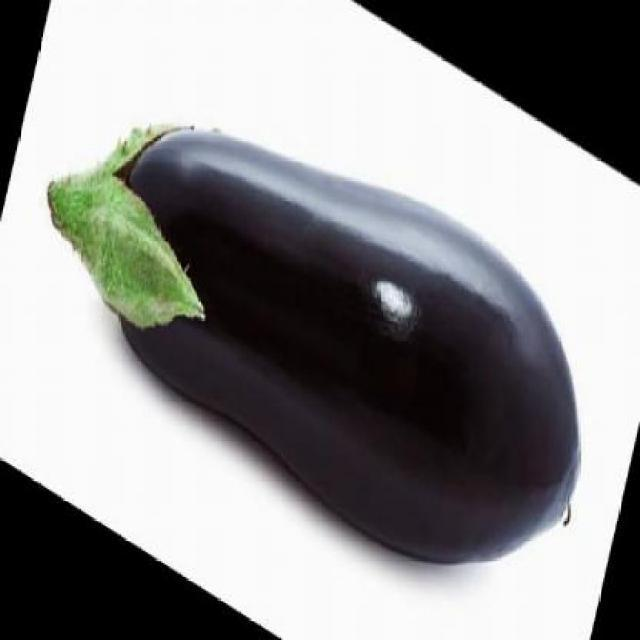eggplant: (45, 120, 588, 569)
